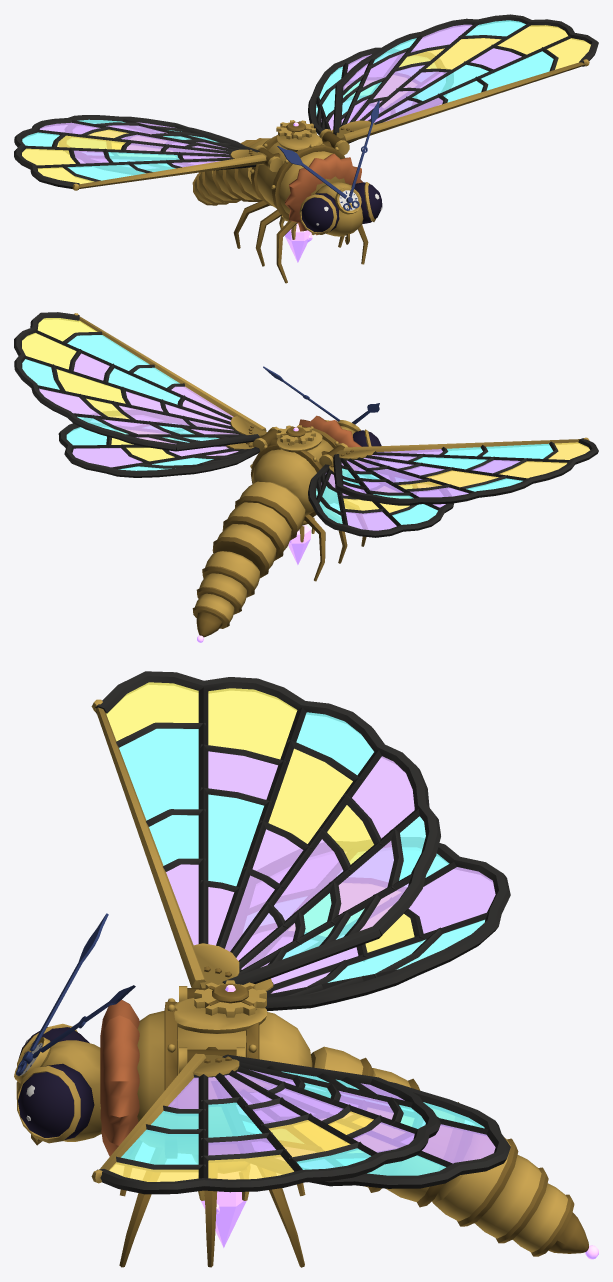
The model's file is prism_moth.glb.
3 views of the same model, one above another, from view 1: azimuth 30°, elevation 25°; view 2: azimuth 150°, elevation 25°; view 3: azimuth 270°, elevation 25° (orthographic). The views are drawn at different scales.
Parts seen in each view (by area): view 1: wing_L, wing_R, lantern, head, tail_1, tail_2, ring_A, flame, antenna_R, antenna_L; view 2: wing_L, wing_R, lantern, tail_1, tail_2, ring_A, head, flame; view 3: wing_R, wing_L, lantern, tail_2, head, tail_1, ring_A, flame, antenna_R.
Part boxes in pixels (<box>): wing_L: <box>308,14,598,155</box>; wing_R: <box>14,115,282,190</box>; lantern: <box>233,132,368,283</box>; head: <box>299,182,382,244</box>; tail_1: <box>212,138,270,201</box>; tail_2: <box>192,170,240,205</box>; ring_A: <box>276,120,315,139</box>; flame: <box>285,223,312,262</box>; antenna_R: <box>277,146,359,208</box>; antenna_L: <box>343,99,379,210</box>; wing_L: <box>14,312,279,477</box>; wing_R: <box>308,437,598,537</box>; lantern: <box>250,415,367,581</box>; tail_1: <box>212,481,305,578</box>; tail_2: <box>192,551,260,642</box>; ring_A: <box>276,425,315,444</box>; head: <box>325,420,381,465</box>; flame: <box>288,525,310,564</box>; wing_R: <box>91,671,510,1011</box>; wing_L: <box>91,1047,510,1194</box>; lantern: <box>100,998,312,1267</box>; tail_2: <box>432,1125,598,1259</box>; head: <box>14,1023,101,1145</box>; tail_1: <box>311,1046,463,1207</box>; ring_A: <box>194,980,266,1017</box>; flame: <box>200,1172,248,1247</box>; antenna_R: <box>16,913,108,1075</box>.
Bounding box in the file's own units: 1.44 × 0.4321 × 0.6915.
